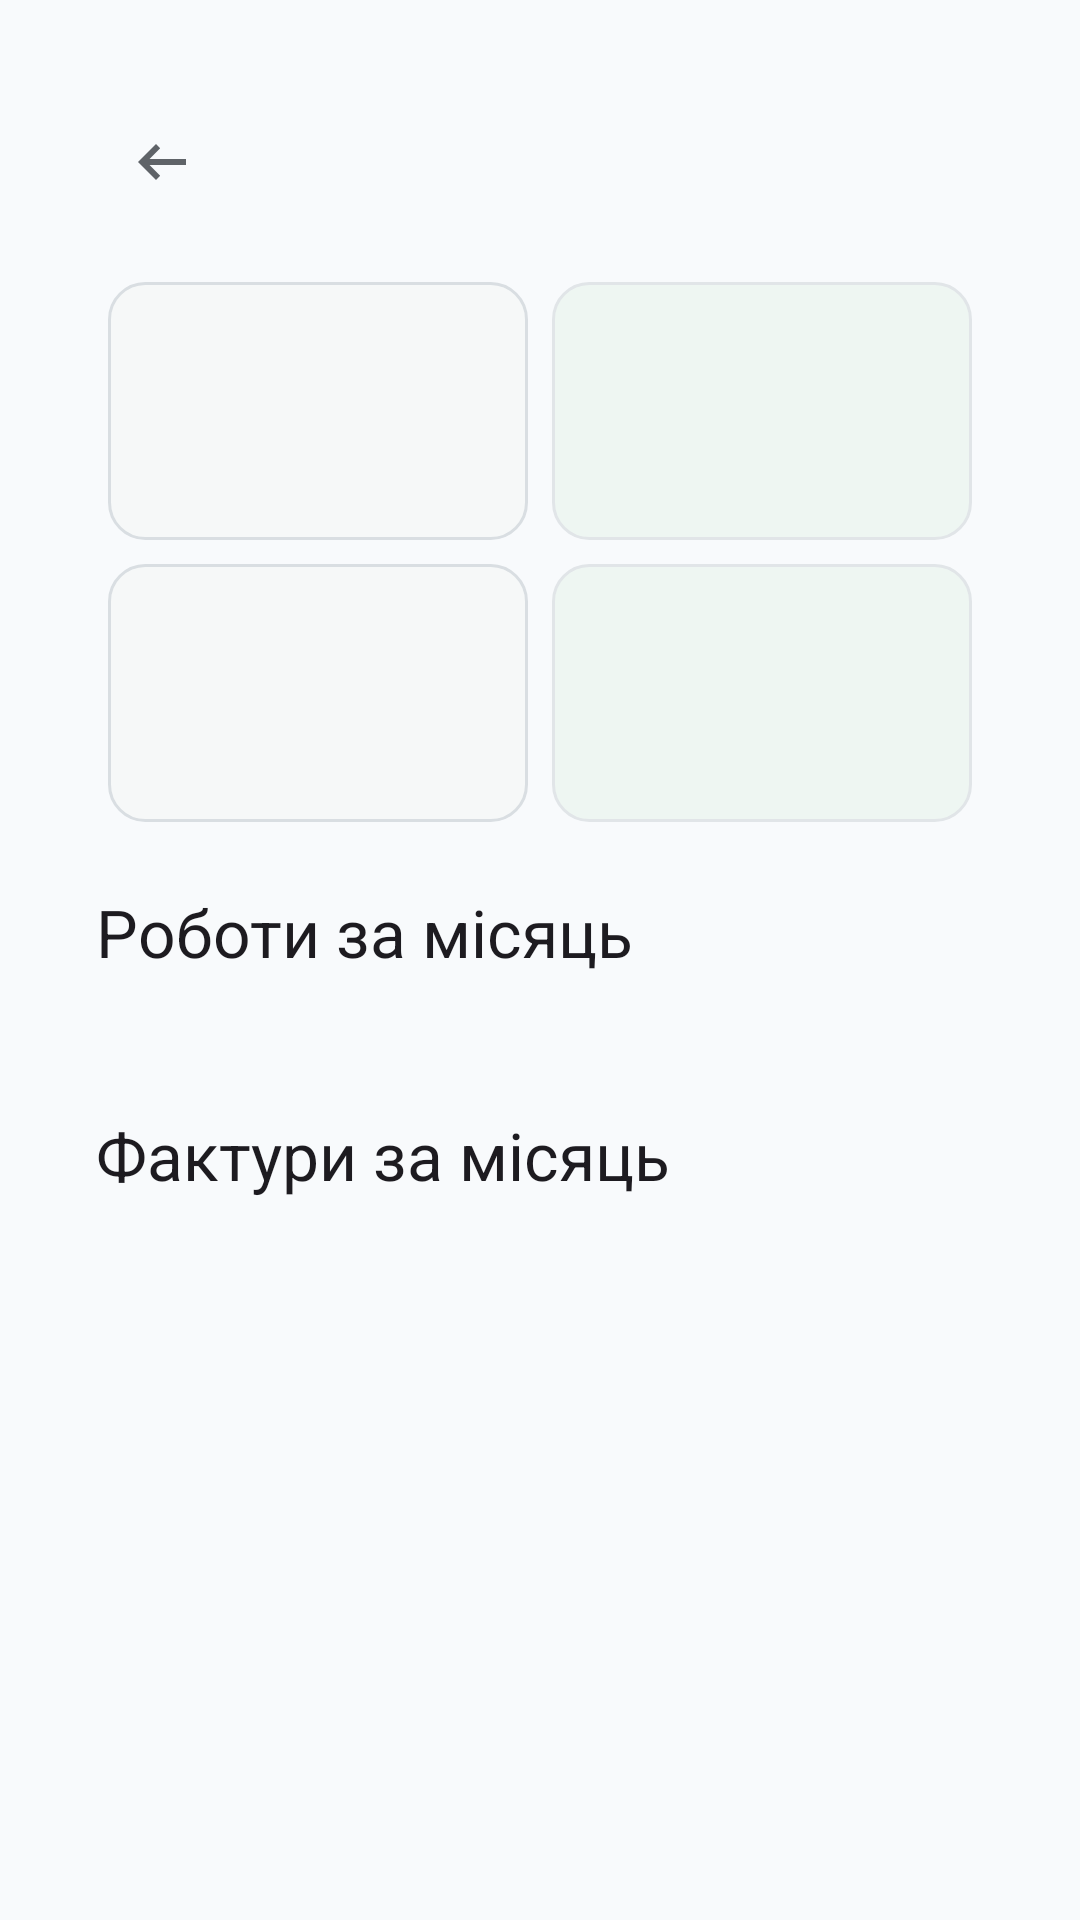

Screen size 1080px x 1920px. Icon name, then its box in pixels as detection(x1, y1, x2, y2):
Попередній місяць: detection(138, 144, 186, 180)
